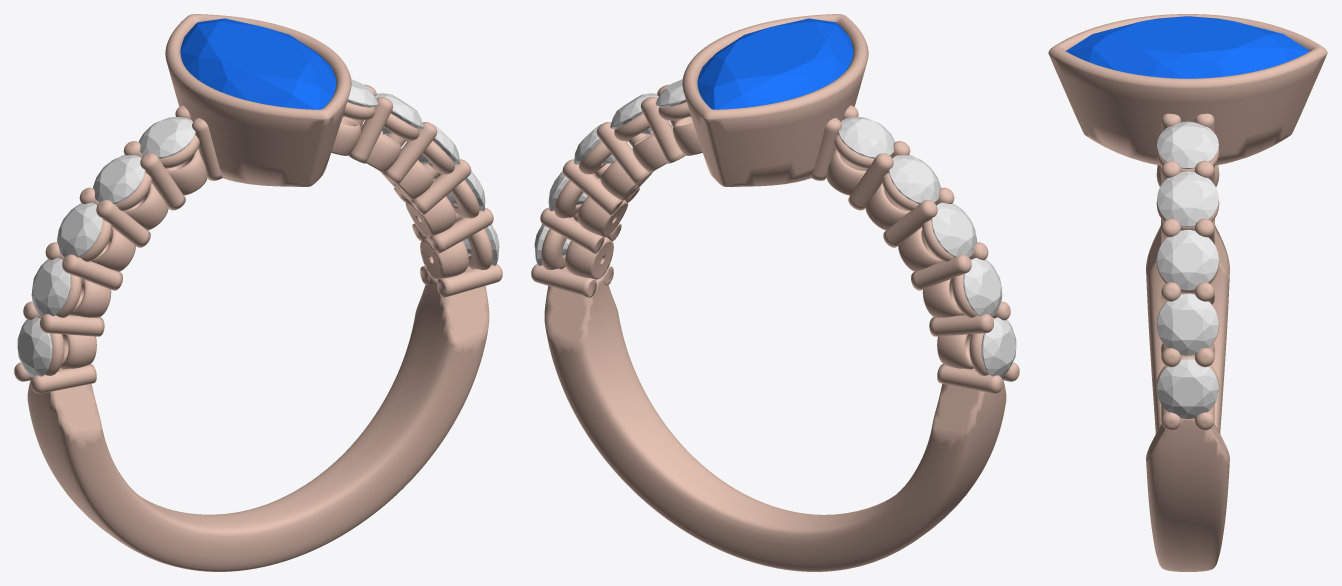
File: bluesapphire-marquise-rosegold-bezelset-straighttaperedband-11stone.glb
3 views of the same model, side by side, from view 1: azimuth 30°, elevation 25°; view 2: azimuth 150°, elevation 25°; view 3: azimuth 270°, elevation 25° (orthographic).
Visible parts, largest first — view 1: metal.002, stone.002, dia.024, dia.025, dia.023, dia.026, dia.002, dia.030; view 2: metal.002, stone.002, dia.024, dia.025, dia.023, dia.026, dia.002, dia.030; view 3: metal.002, stone.002, dia.028, dia.029, dia.027, dia.030, dia.031.
Boxes of the visible parts, <box> form: metal.002: <box>14,14,502,571</box>; stone.002: <box>180,18,336,109</box>; dia.024: <box>57,202,102,257</box>; dia.025: <box>93,155,145,203</box>; dia.023: <box>31,257,70,316</box>; dia.026: <box>139,117,195,158</box>; dia.002: <box>17,317,52,377</box>; dia.030: <box>375,93,423,134</box>; metal.002: <box>531,14,1019,571</box>; stone.002: <box>697,18,853,109</box>; dia.024: <box>931,202,976,257</box>; dia.025: <box>888,155,940,203</box>; dia.023: <box>963,257,1002,316</box>; dia.026: <box>838,117,894,158</box>; dia.002: <box>981,317,1016,377</box>; dia.030: <box>610,93,658,134</box>; metal.002: <box>1048,14,1327,571</box>; stone.002: <box>1066,16,1309,78</box>; dia.028: <box>1157,294,1218,355</box>; dia.029: <box>1157,229,1218,290</box>; dia.027: <box>1157,359,1218,418</box>; dia.030: <box>1157,171,1218,226</box>; dia.031: <box>1157,121,1218,168</box>.
Bounding box in the file's own units: 22.1 × 22.94 × 11.31.
